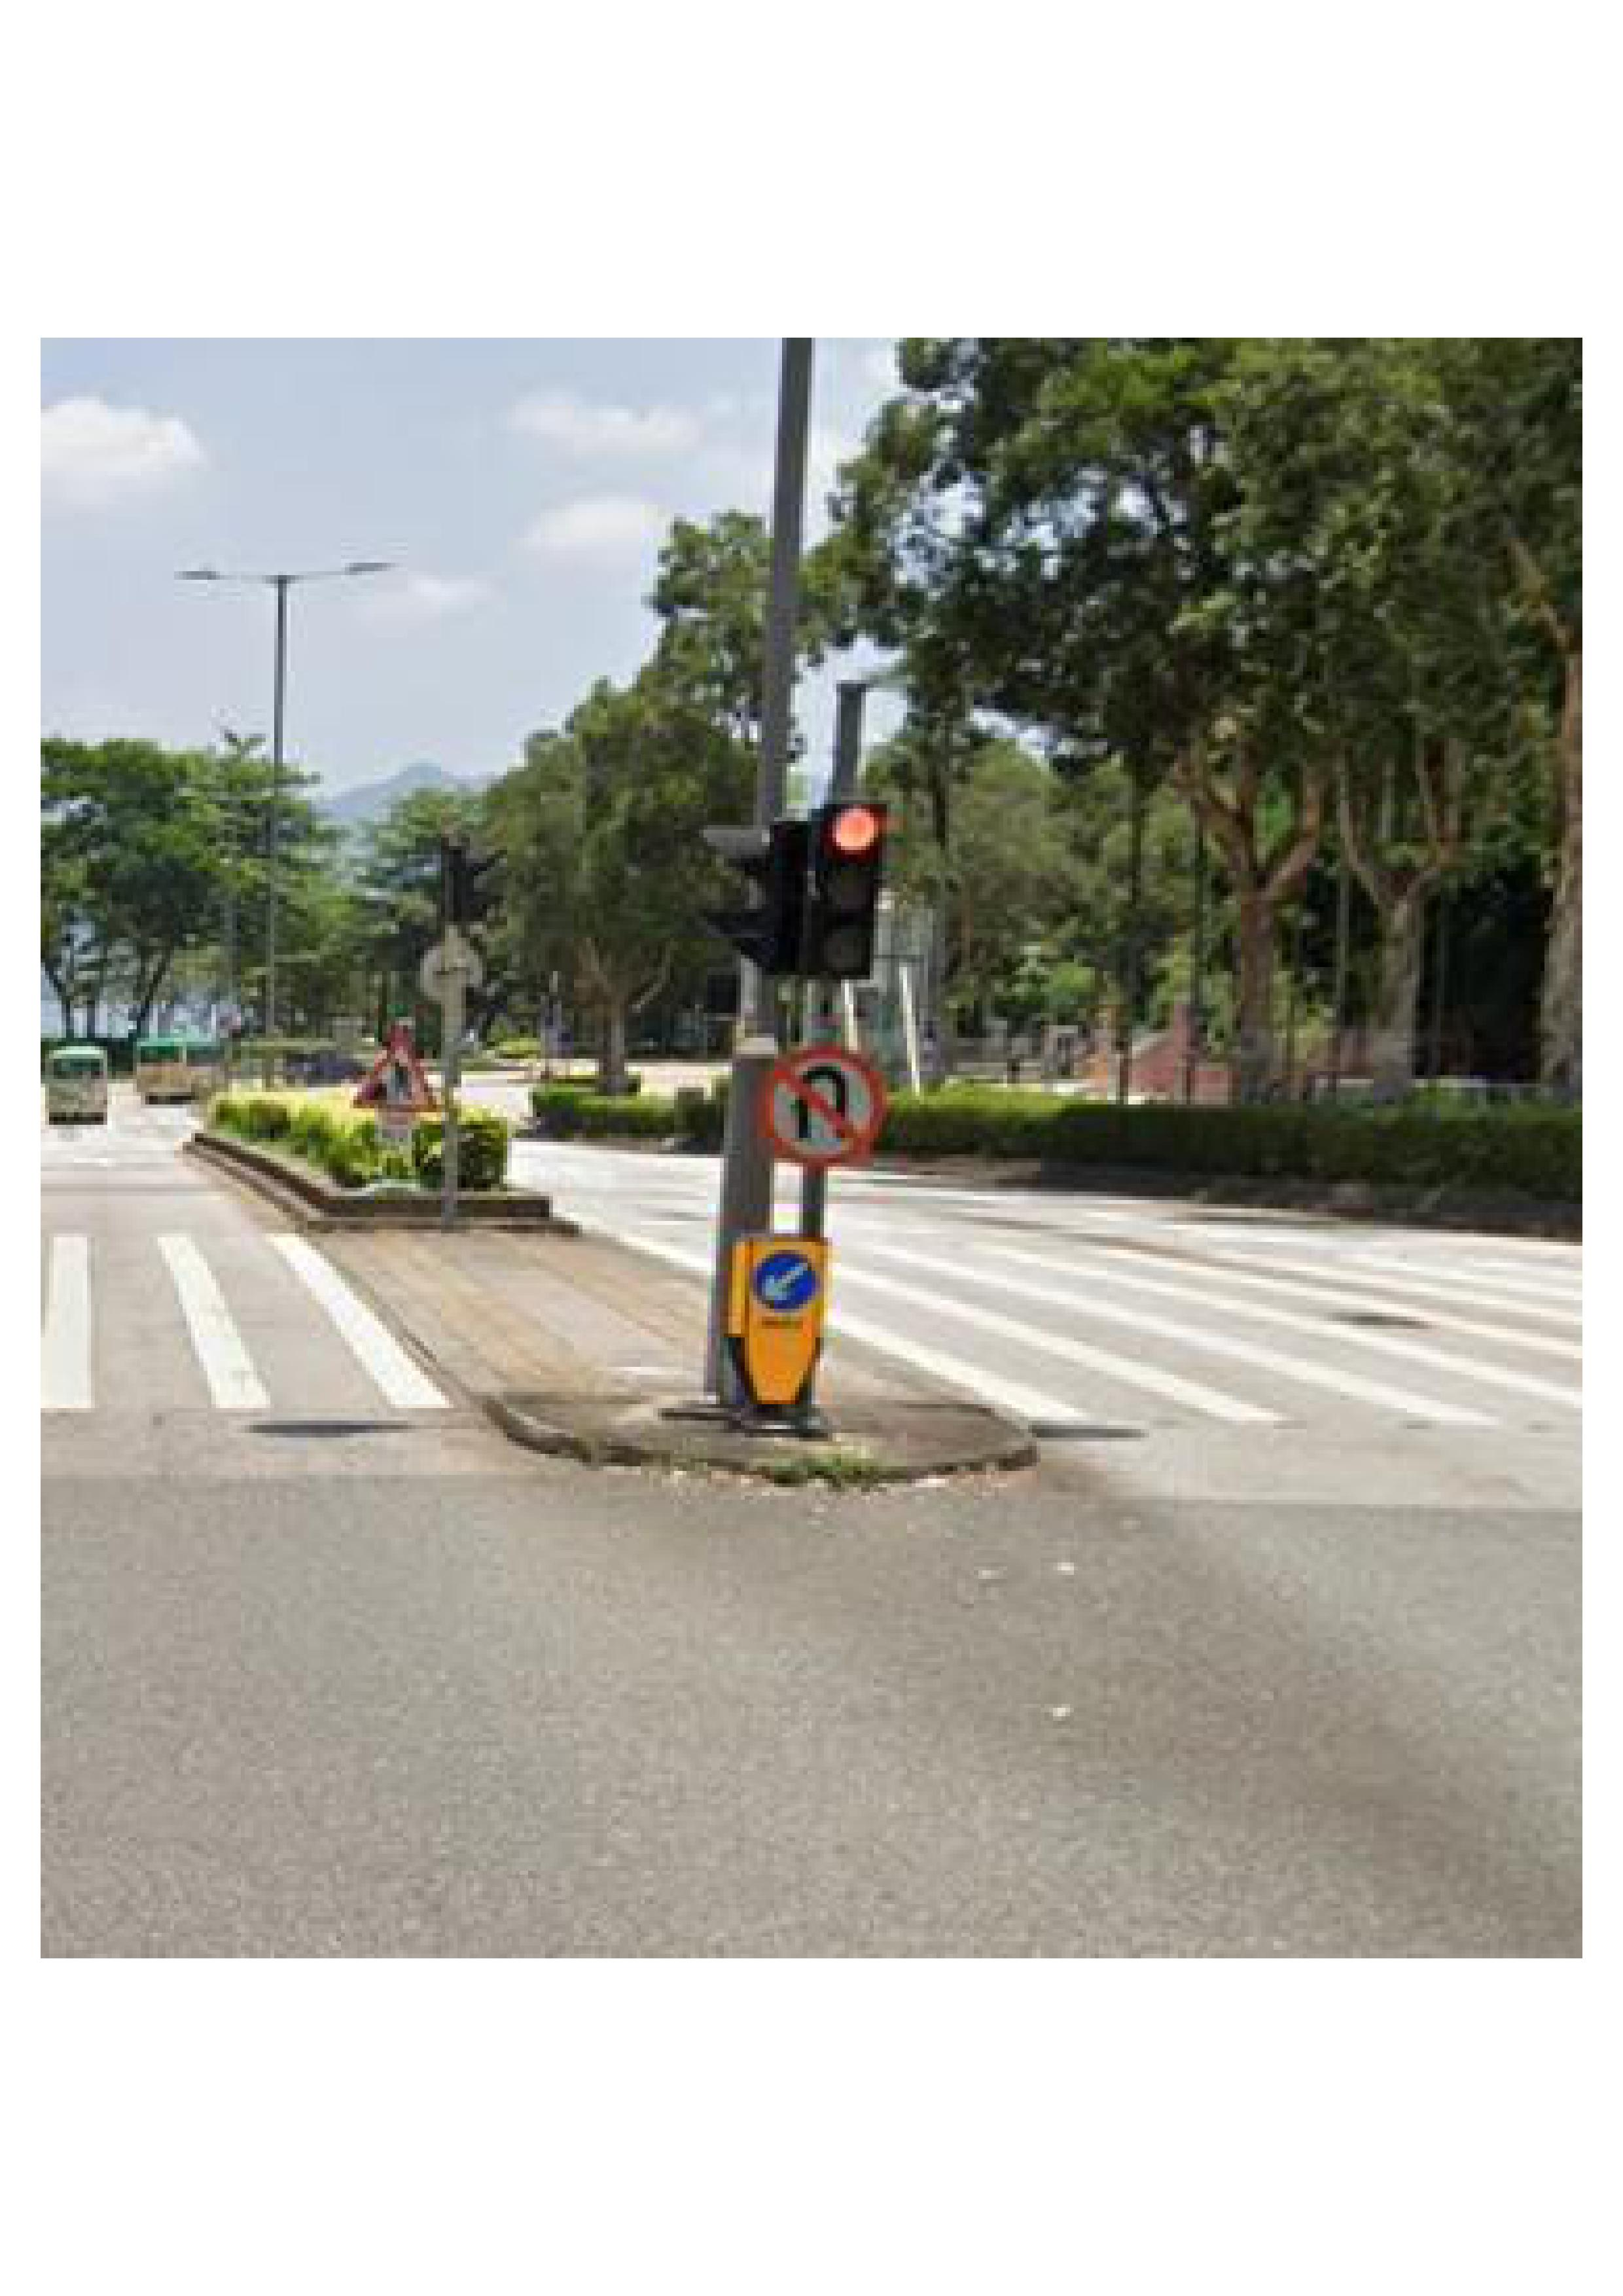No Uturn: (757, 1032, 889, 1166)
